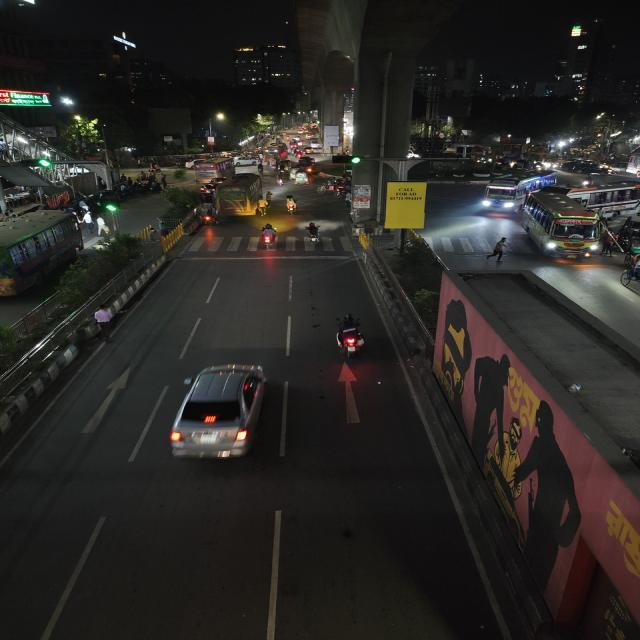bus: (0, 210, 83, 299), (520, 193, 606, 262), (481, 169, 556, 211), (218, 172, 264, 218), (194, 156, 235, 183), (261, 144, 282, 164)
car: (163, 359, 281, 471), (556, 160, 606, 176), (235, 156, 257, 167)
motorcycle: (330, 312, 370, 364), (89, 302, 118, 332), (255, 222, 282, 251), (300, 220, 326, 246), (282, 194, 300, 216), (201, 206, 217, 228), (275, 174, 285, 186)
pedestrian: (484, 235, 512, 267), (255, 194, 268, 218)
rickshaw: (316, 179, 346, 194), (289, 169, 310, 187)
